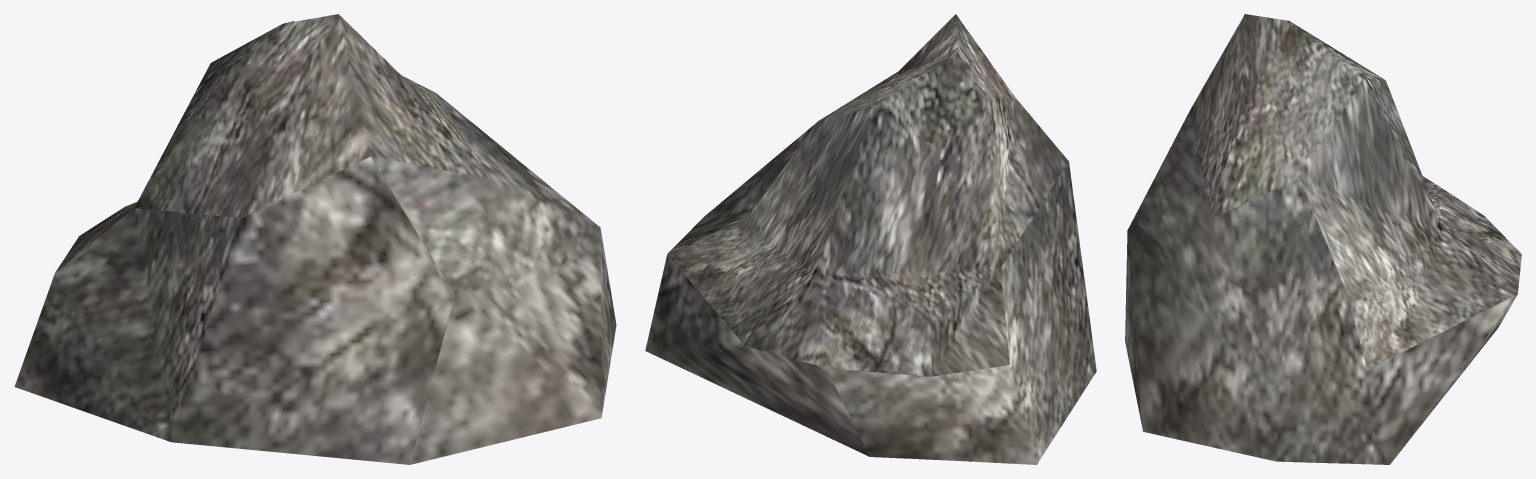
File: geology-highland2.glb
3 views of the same model, side by side, from view 1: azimuth 30°, elevation 25°; view 2: azimuth 150°, elevation 25°; view 3: azimuth 270°, elevation 25° (orthographic). The views are drawn at different scales.
Parts seen in each view (by area): view 1: wrld_rock_highland2; view 2: wrld_rock_highland2; view 3: wrld_rock_highland2.
Part boxes in pixels (x1,y1,x2,y2): wrld_rock_highland2: (14, 14, 616, 464); wrld_rock_highland2: (645, 14, 1096, 464); wrld_rock_highland2: (1125, 14, 1521, 464).
Bounding box in the file's own units: 1.35 × 1.03 × 1.11.
Materials: 1 (1 with a texture image).
